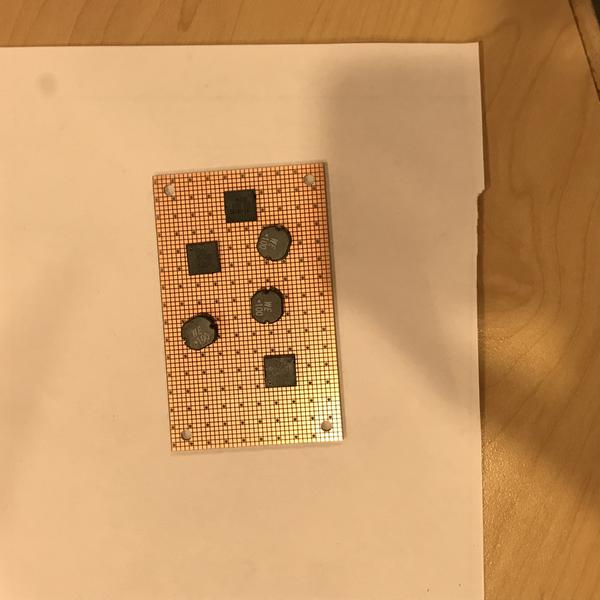board: (151, 159, 350, 455)
